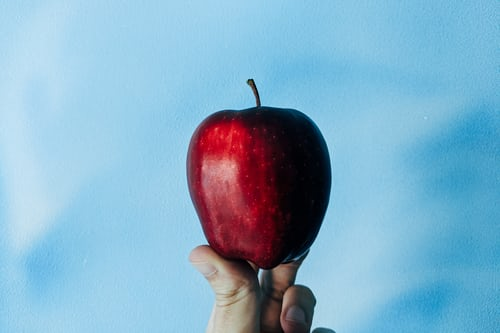apple: (182, 74, 332, 266)
